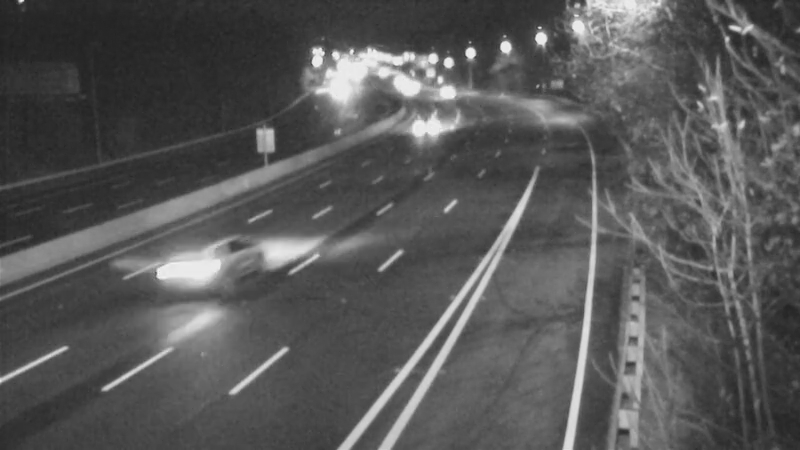vehicle: (152, 230, 232, 310), (420, 67, 470, 117), (401, 100, 451, 150)
